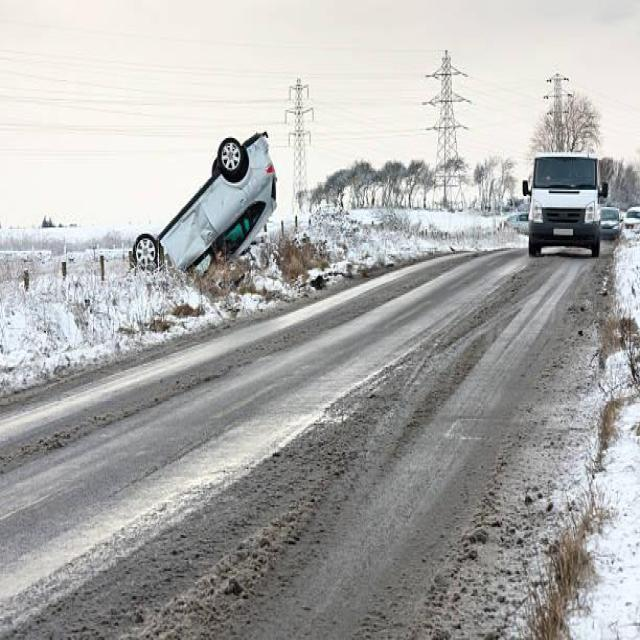severe: (125, 122, 280, 289)
